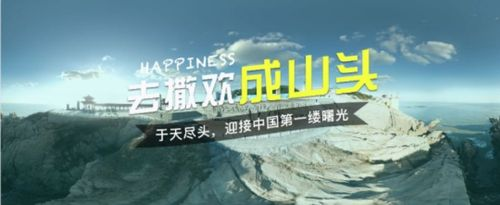mountain: (2, 110, 146, 194)
